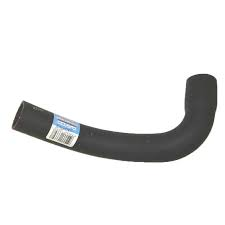radiator_hose: (18, 75, 217, 162)
